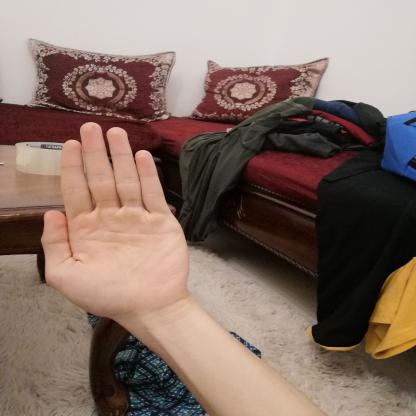SEEN: (28, 114, 200, 331)
